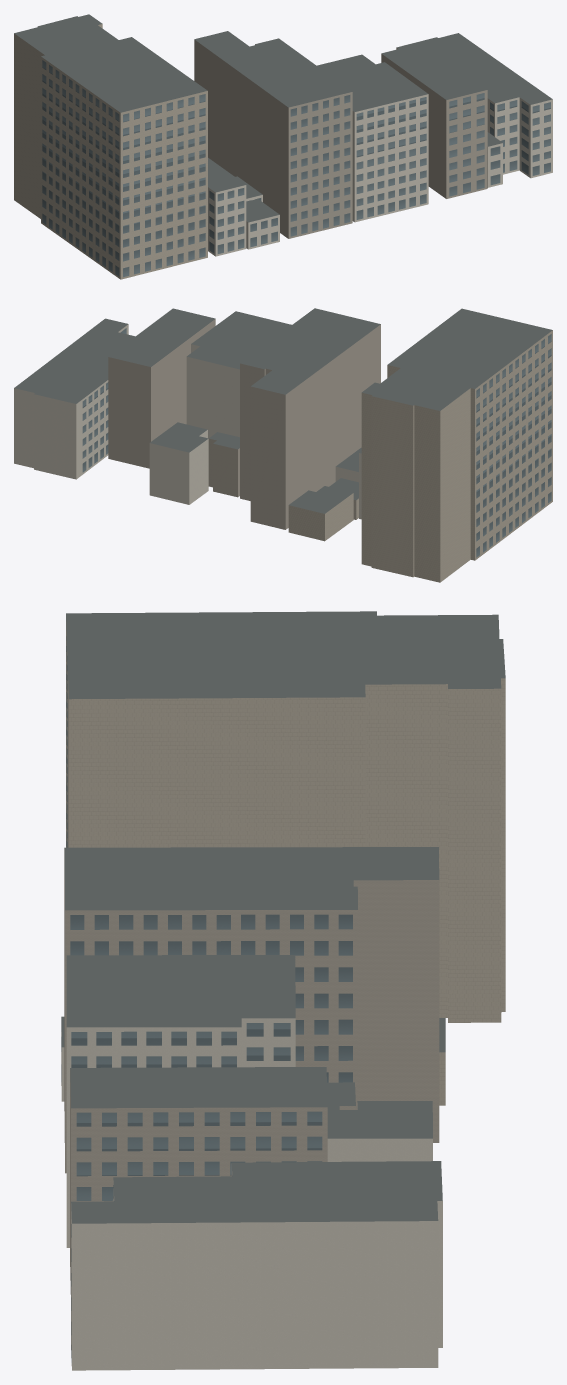
The picture shows the model from 3 angles, top to bottom: view 1: azimuth 30°, elevation 25°; view 2: azimuth 150°, elevation 25°; view 3: azimuth 270°, elevation 25°; orthographic projection. The views are drawn at different scales.
Parts seen in each view (by area): view 1: cell-e004-n000_base_stone, cell-e004-n000_base_roof, cell-e004-n000_base_glass, cell-e004-n000_base_tile-wall, cell-e004-n000_base_plaster; view 2: cell-e004-n000_base_stone, cell-e004-n000_base_roof, cell-e004-n000_base_tile-wall, cell-e004-n000_base_plaster, cell-e004-n000_base_glass; view 3: cell-e004-n000_base_roof, cell-e004-n000_base_stone, cell-e004-n000_base_plaster, cell-e004-n000_base_tile-wall, cell-e004-n000_base_glass.
Part boxes in pixels (bbox=[...]): cell-e004-n000_base_stone: bbox=[14, 24, 207, 279]; cell-e004-n000_base_roof: bbox=[14, 14, 552, 222]; cell-e004-n000_base_glass: bbox=[42, 60, 550, 277]; cell-e004-n000_base_tile-wall: bbox=[194, 39, 487, 238]; cell-e004-n000_base_plaster: bbox=[208, 47, 552, 256]; cell-e004-n000_base_stone: bbox=[288, 330, 552, 582]; cell-e004-n000_base_roof: bbox=[14, 308, 552, 513]; cell-e004-n000_base_tile-wall: bbox=[108, 319, 380, 529]; cell-e004-n000_base_plaster: bbox=[14, 324, 361, 519]; cell-e004-n000_base_glass: bbox=[82, 328, 551, 557]; cell-e004-n000_base_roof: bbox=[61, 611, 505, 1223]; cell-e004-n000_base_stone: bbox=[66, 622, 505, 1105]; cell-e004-n000_base_plaster: bbox=[61, 1018, 442, 1370]; cell-e004-n000_base_tile-wall: bbox=[64, 848, 439, 1294]; cell-e004-n000_base_glass: bbox=[61, 636, 352, 1362].
Size of the model in its own units: 111 by 40.77 by 49.18.
Materials: 5 (4 with a texture image).
